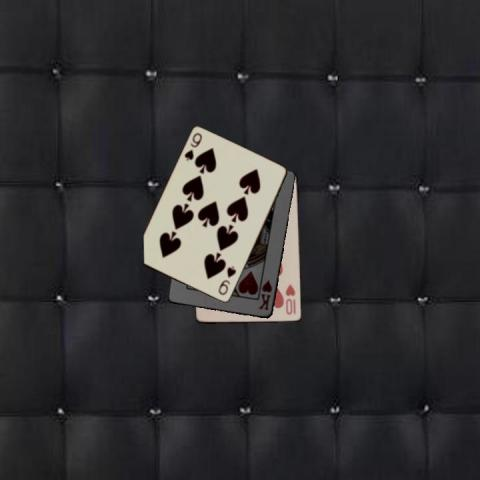10h: (283, 281, 297, 316)
9s: (182, 130, 204, 163), (216, 263, 237, 297)
Kh: (255, 277, 274, 312)
